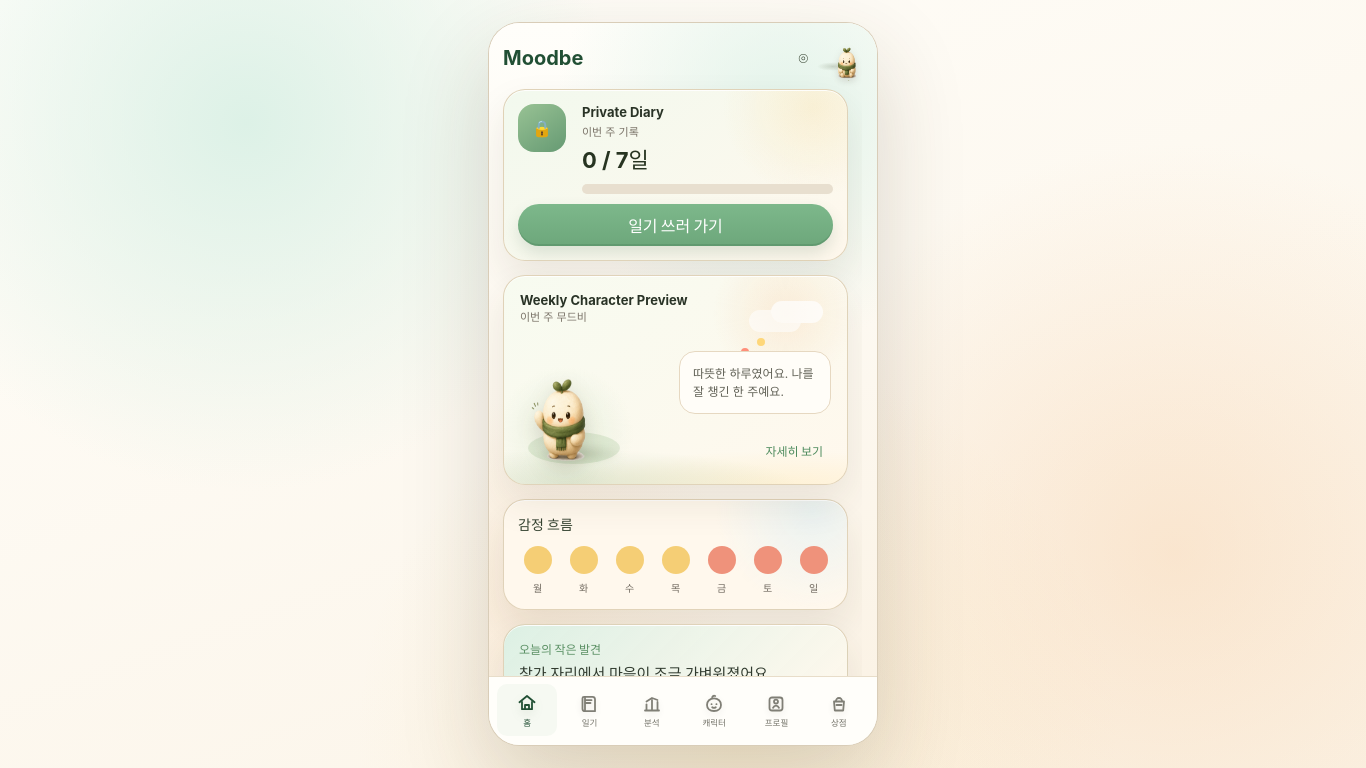
Test: App navigation › opens the diary screen from the home diary CTA
What coordinates should you click on to do the following:
click the button "일기 쓰러 가기"
I would click on:
 (676, 225)
Its box is [518,204,833,246].
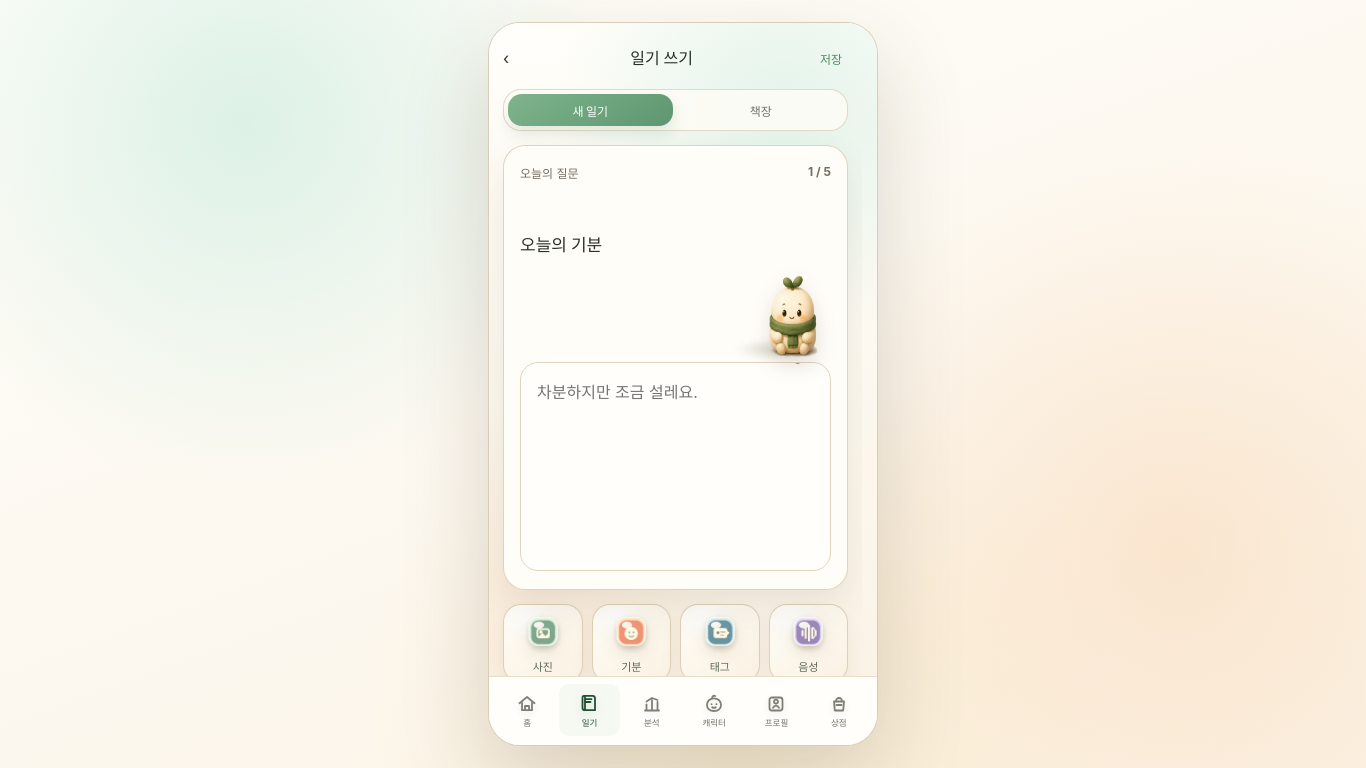
Expected: the element with class "diary-screen" is shown, [489,23,862,676]
